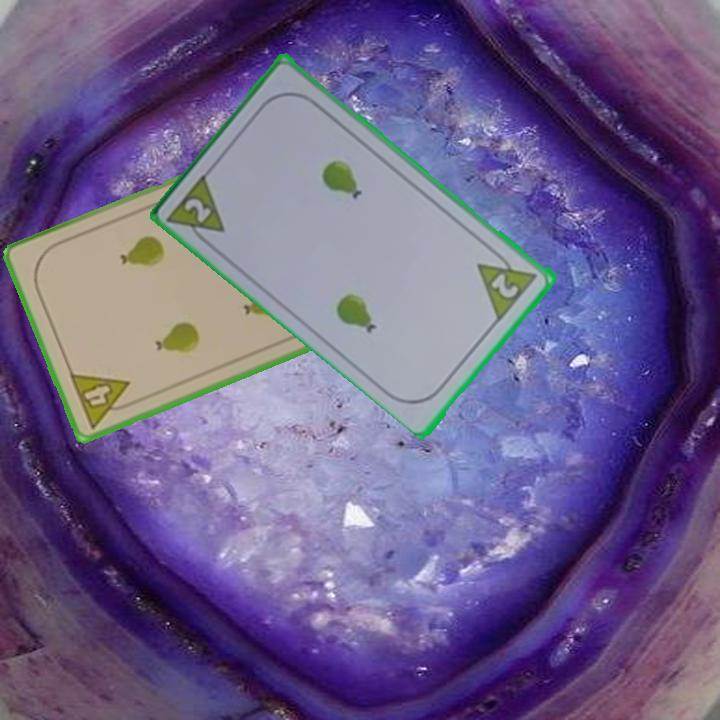2p: (165, 168, 230, 252), (488, 268, 523, 302)
4p: (66, 369, 140, 431)
